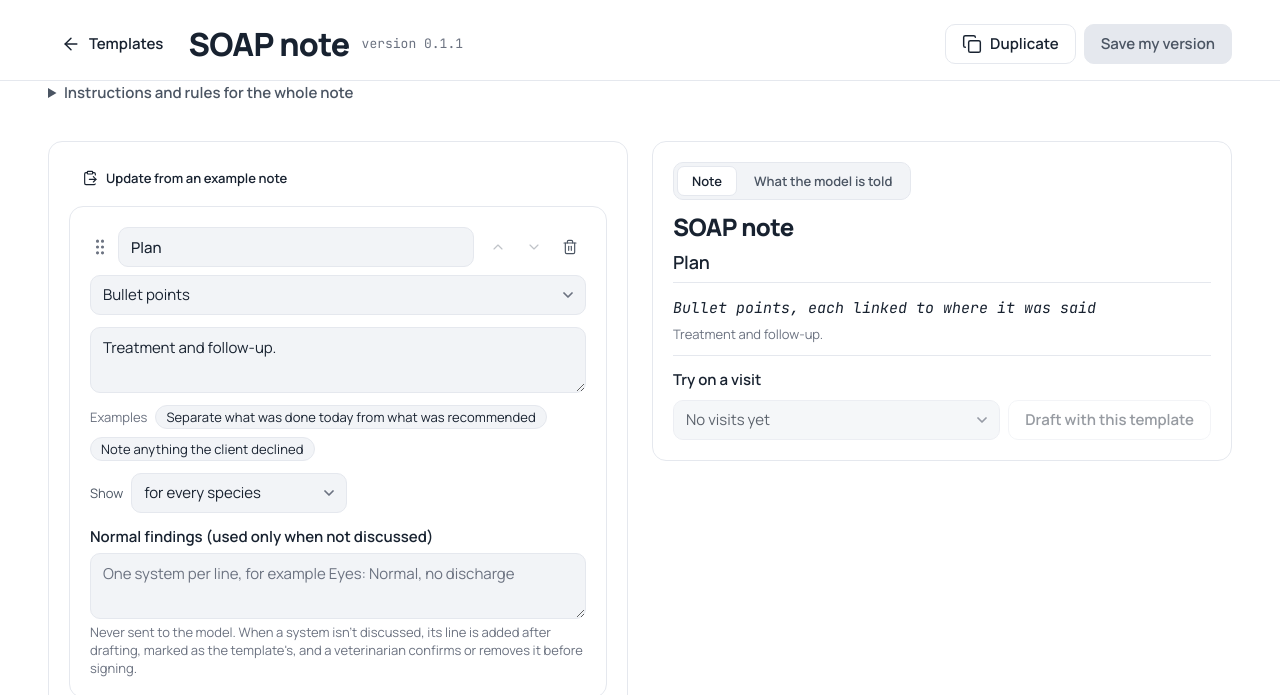
Templates: the editor › warns about a pasted exam and moves its lines into Normal findings
The width and height of the screenshot is (1280, 695).
(page scrolled)
Replace the text in the text box named "Instruction for Plan" with "-Yeux : Normal, aucun écoulement -Oreilles : Propres -Tartre : -T: P: R:" at point(338, 360), box [90,327,586,393]
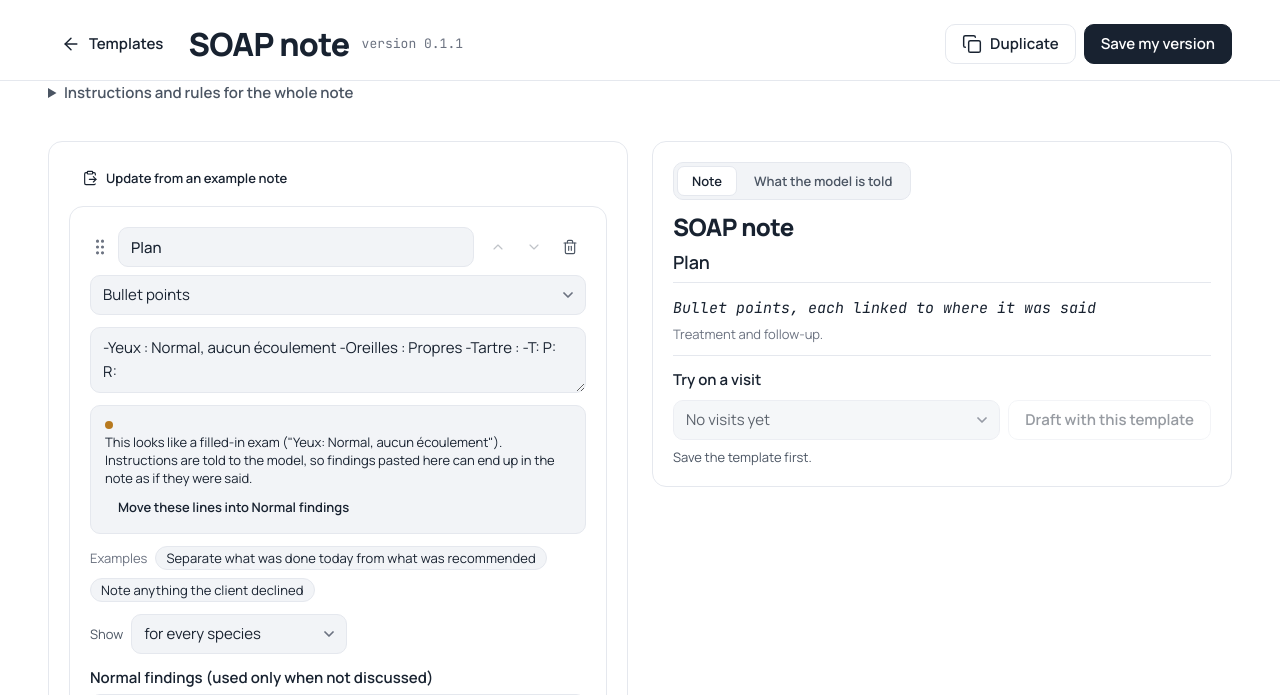
Result: the text "findings pasted here can end up in the note as if they were said" is shown at [105,433,555,487]
Click the button "Move these lines into Normal findings".
click(234, 507)  # box [105,491,362,523]
(page scrolled)
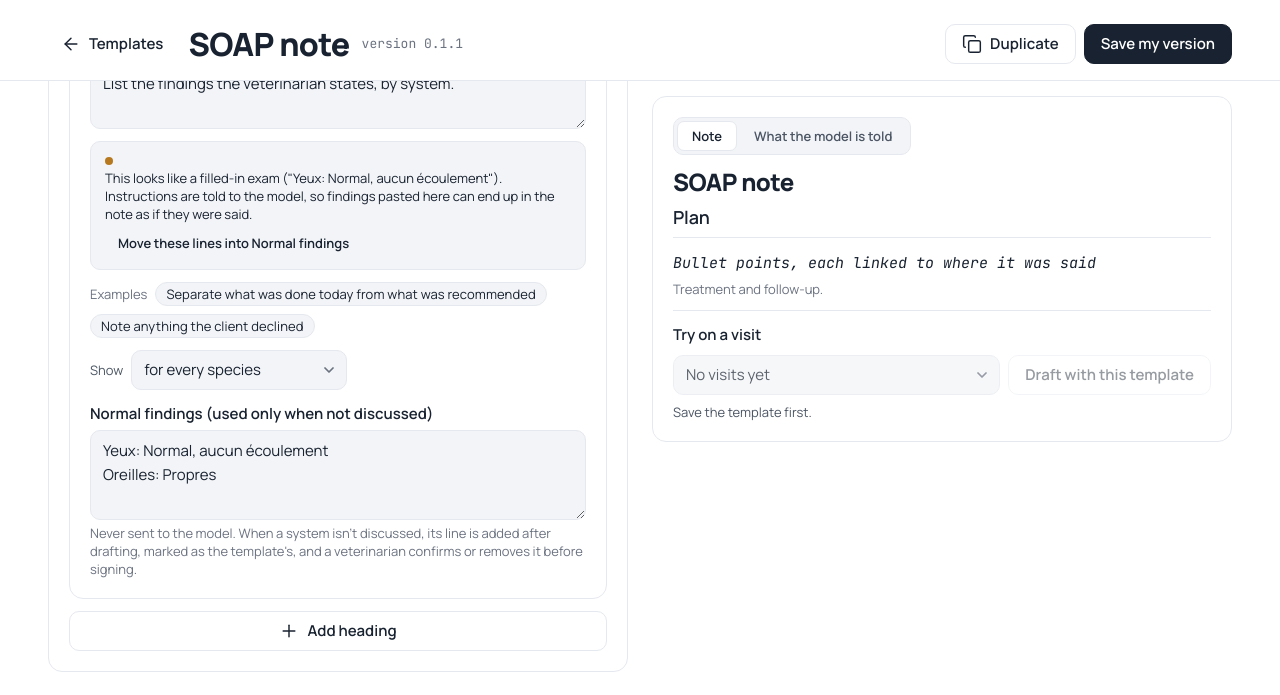
Result: the text box named "Instruction for Plan" holds "List the findings the veterinarian states, by system." at [90,63,586,129]
